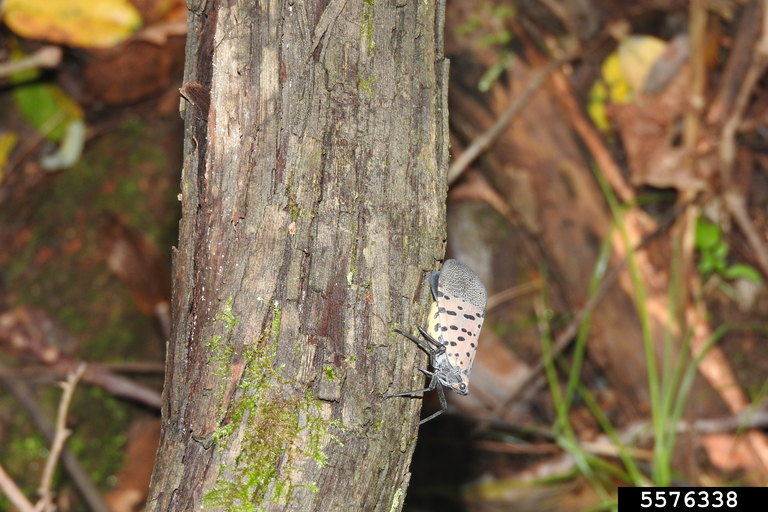adult: (430, 254, 489, 402)
